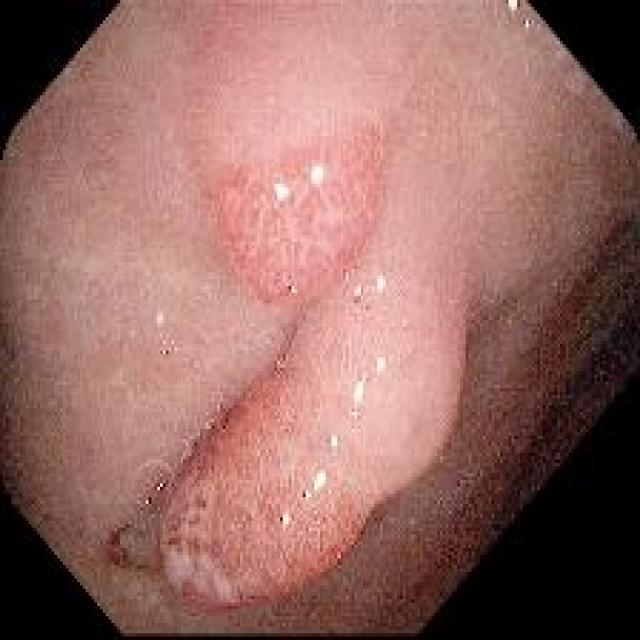Polyps: (160, 273, 468, 608), (214, 121, 382, 302)
